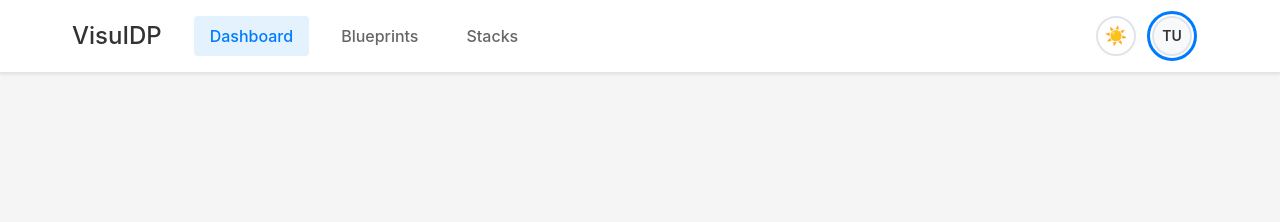
Header Integration Tests › Navigation to API Keys from profile dropdown › should display Personal API Keys menu item in dropdown
Open dropdown
Click the button with aria-label "User profile menu" at (1172, 36), box [1152,16,1192,56]
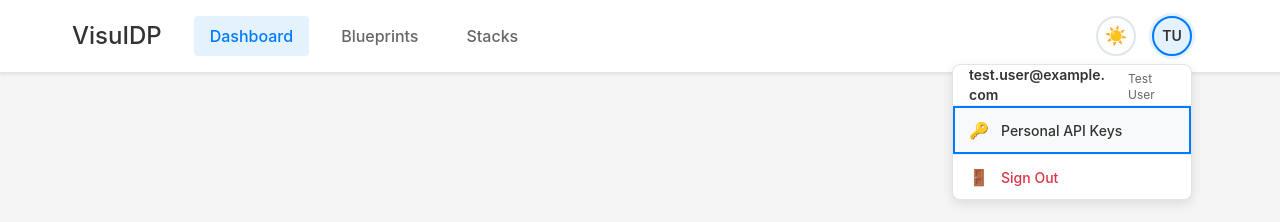
Expected: the menu is shown, [952,64,1192,200]
Expected: the text "Personal API Keys" is shown, [1001,122,1122,138]
